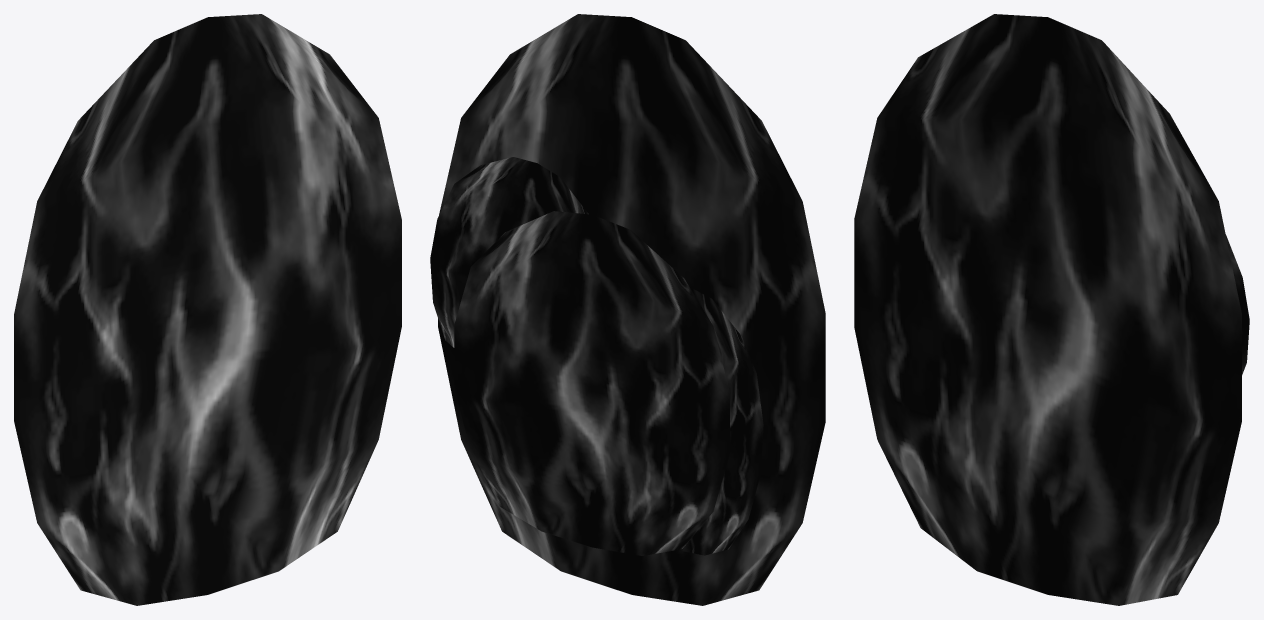
The model's file is CA_Lord_93.fbx.
The picture shows the model from 3 angles, left to right: view 1: azimuth 30°, elevation 25°; view 2: azimuth 150°, elevation 25°; view 3: azimuth 330°, elevation 25°; orthographic projection.
Visible parts, largest first — view 1: Mesh_Aura01; view 2: Mesh_Aura01, Mesh_Aura03, Mesh_Aura01_2, Mesh_Aura01_1; view 3: Mesh_Aura01, Mesh_Aura01_2.
Part boxes in pixels (box(x1,y1,x2,y2)): Mesh_Aura01: box(14, 14, 401, 605); Mesh_Aura01: box(438, 14, 825, 605); Mesh_Aura03: box(454, 211, 729, 555); Mesh_Aura01_2: box(430, 157, 588, 347); Mesh_Aura01_1: box(678, 287, 763, 555); Mesh_Aura01: box(854, 14, 1241, 605); Mesh_Aura01_2: box(1225, 234, 1249, 374).
Bounding box in the file's own units: 967 × 1377 × 103.
